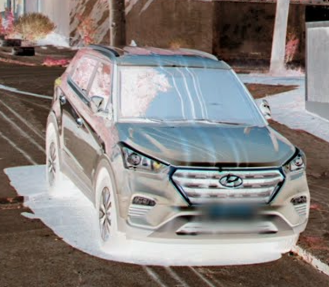car: (44, 45, 311, 257)
